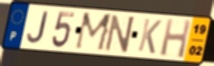5: (50, 11, 77, 49)
H: (158, 18, 193, 60)
J: (26, 11, 50, 45)
K: (136, 18, 163, 56)
M: (73, 11, 115, 53)
N: (103, 14, 137, 54)
